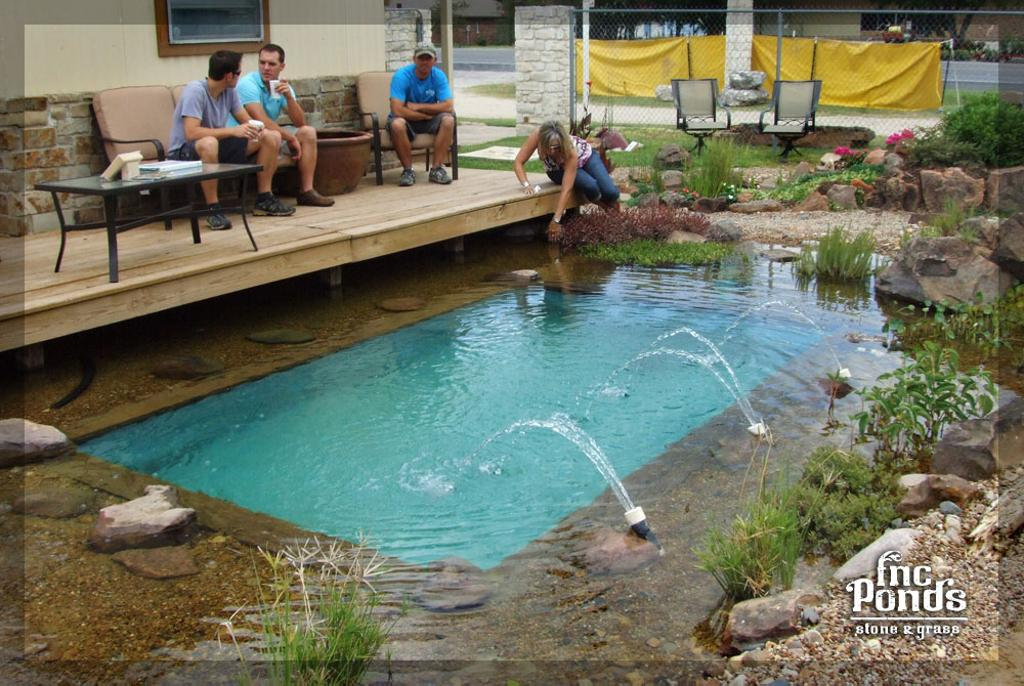face: (257, 48, 280, 81), (414, 54, 434, 74), (229, 60, 241, 87), (545, 140, 560, 155)
